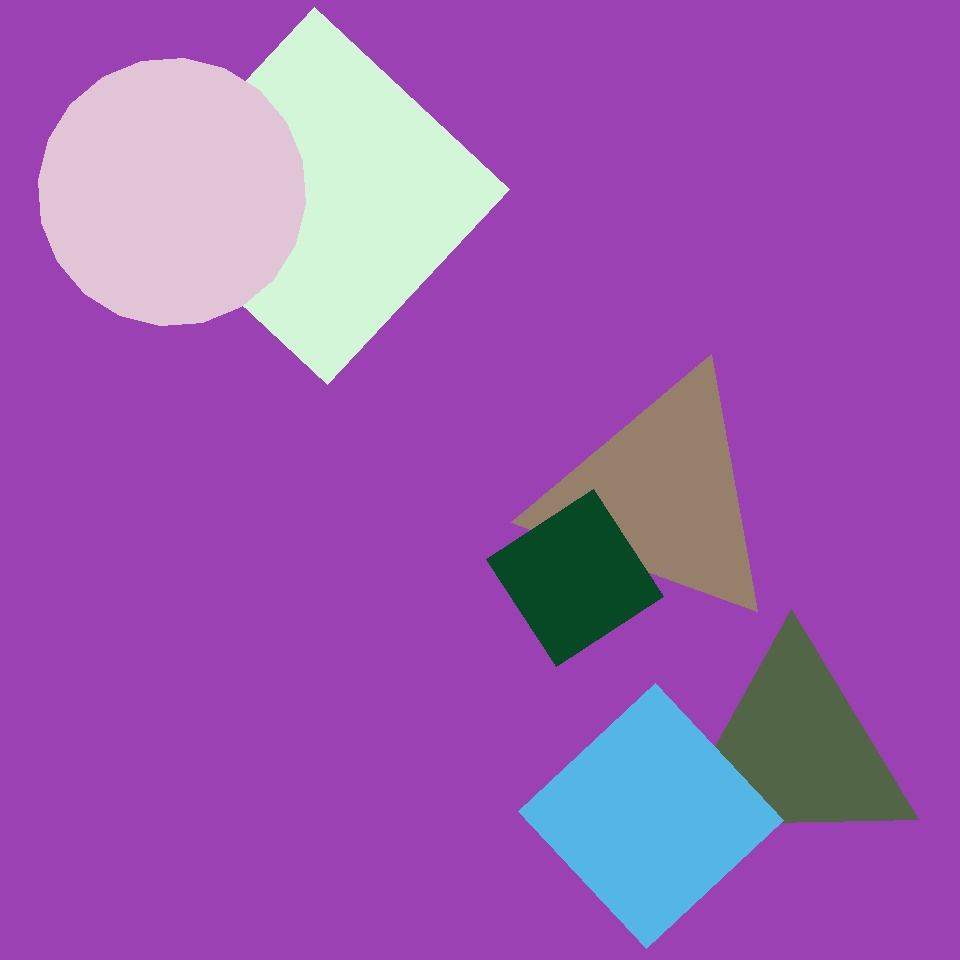circle: (537, 368, 783, 625), (671, 644, 917, 858)
square: (132, 8, 510, 384), (518, 684, 784, 948), (487, 490, 664, 666)
triangle: (38, 59, 306, 326)
